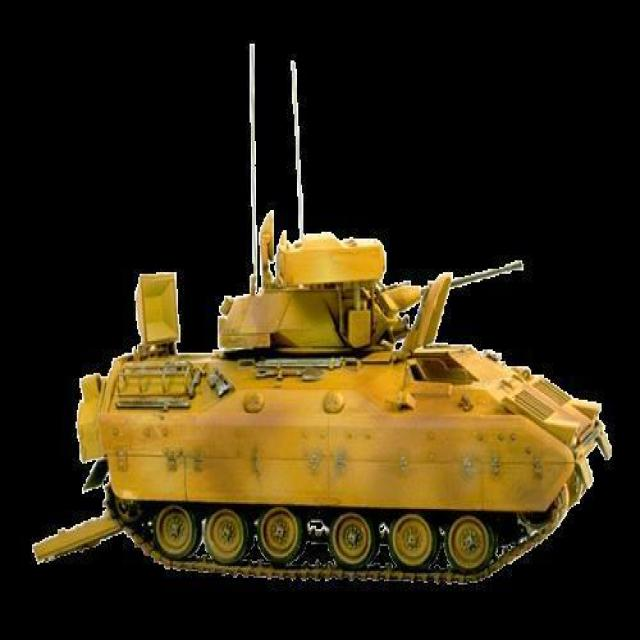Tanks: (15, 208, 625, 586)
